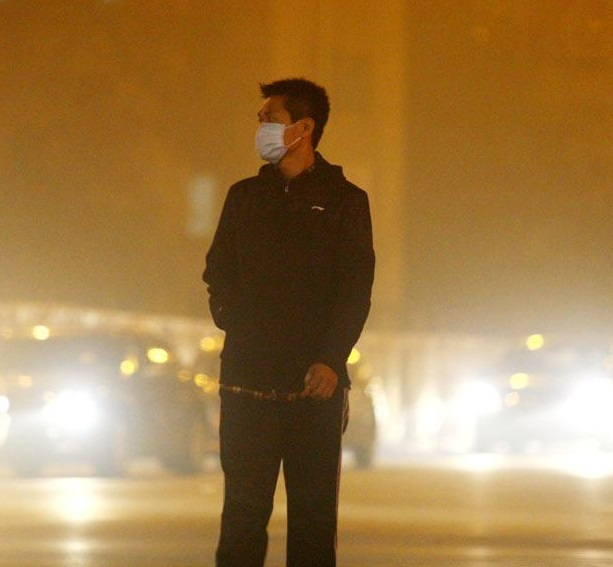person: (194, 74, 383, 567)
